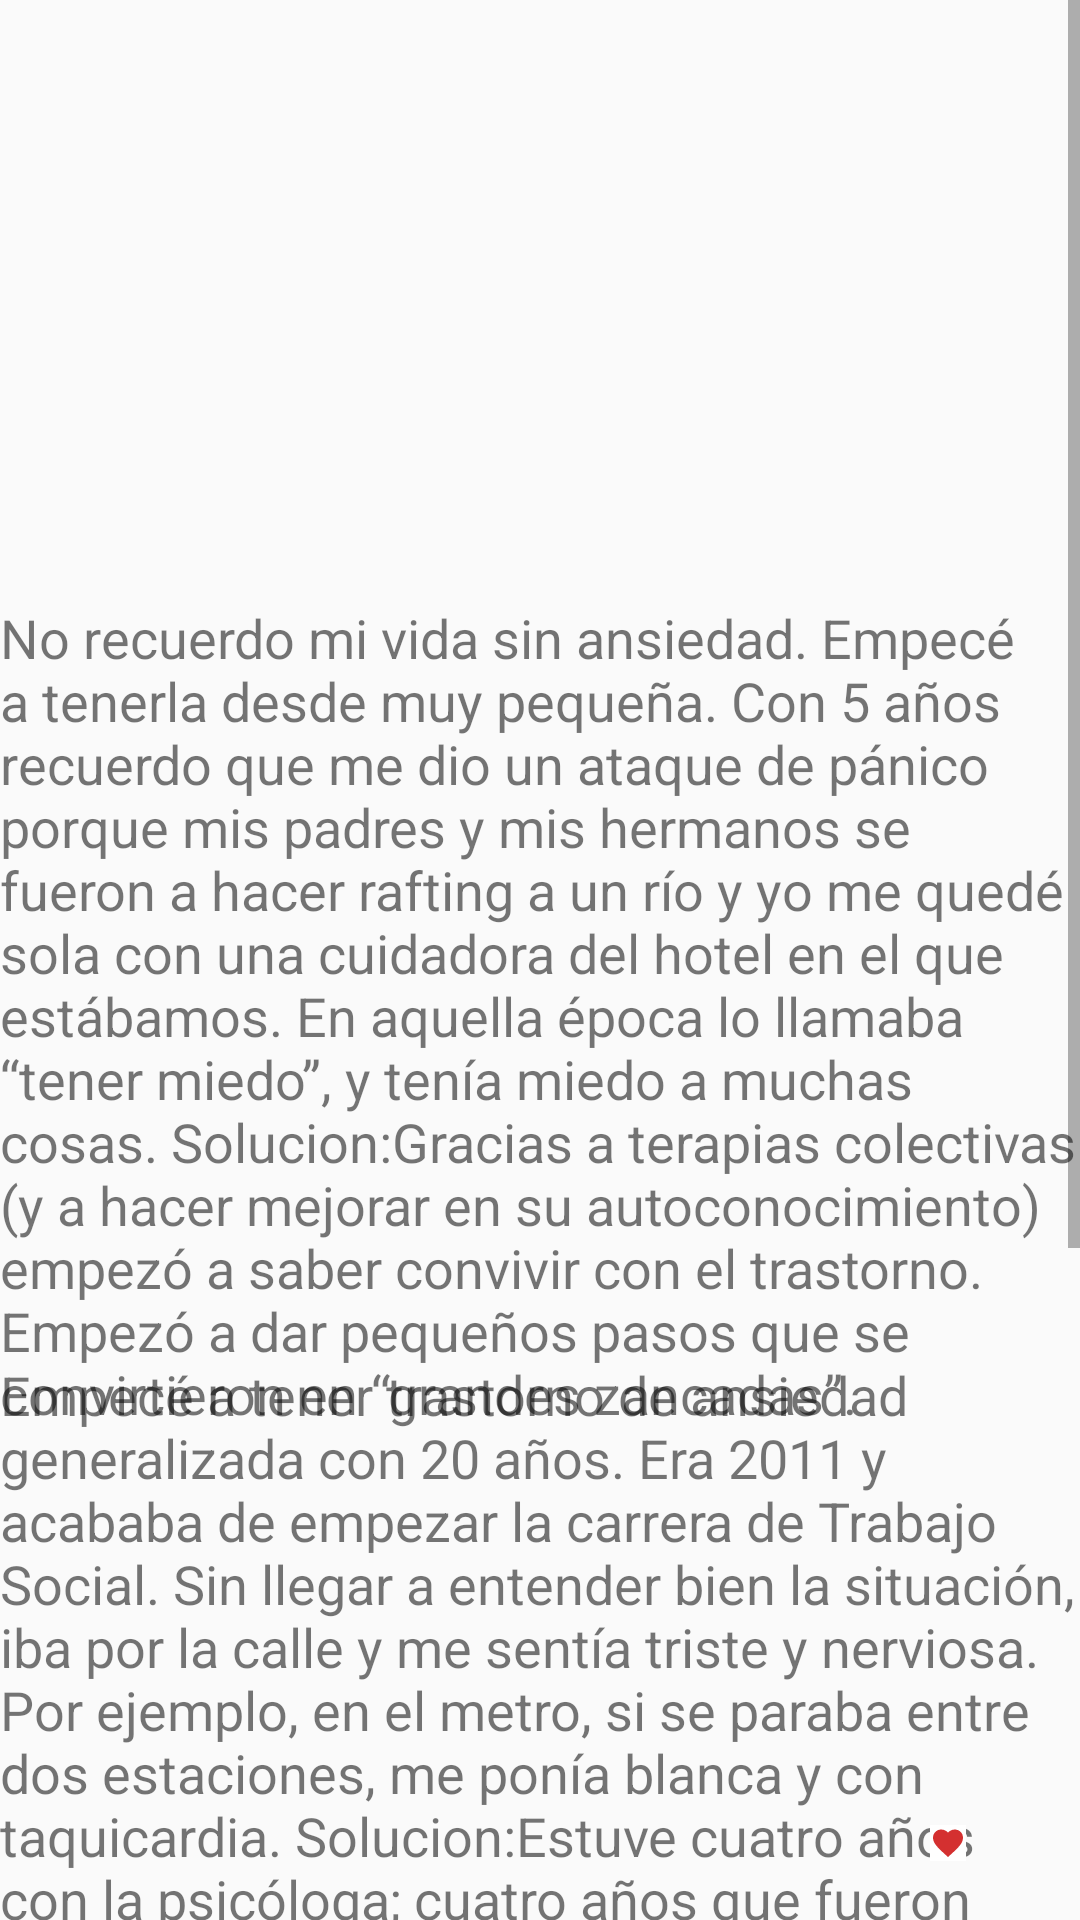

Icon click points for this 1080 × 1920 phone screenshot, format (x,y):
favorito: (948,1843)
